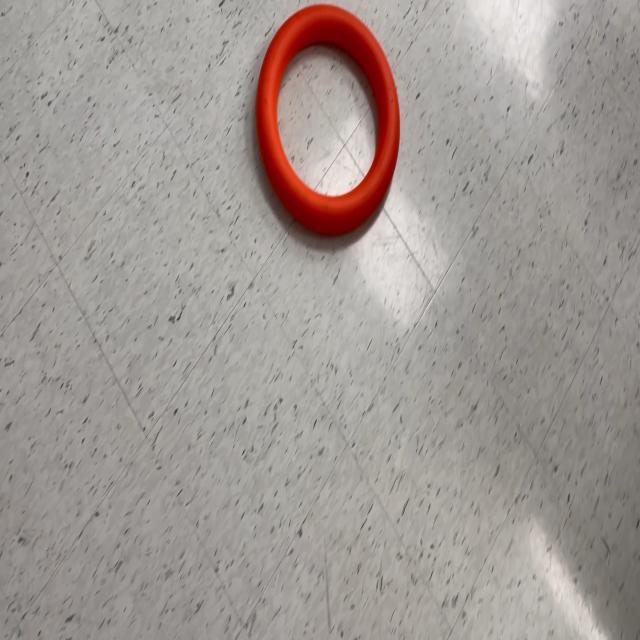note: (255, 6, 401, 241)
